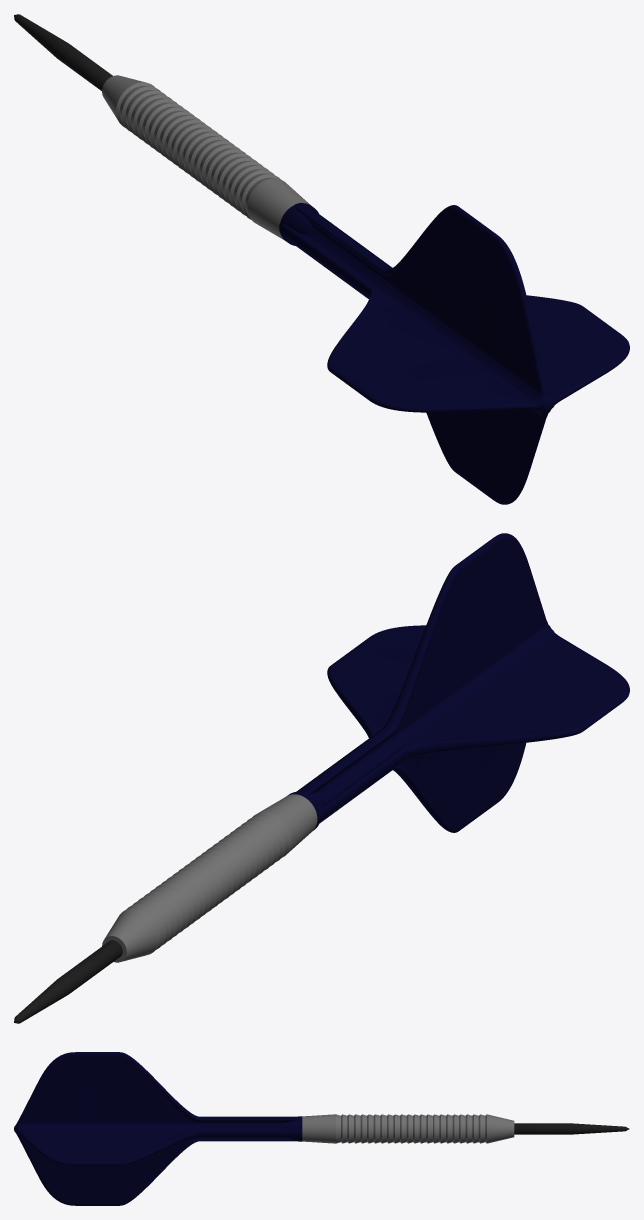
The model's file is dart2.obj.
3 views of the same model, one above another, from view 1: azimuth 30°, elevation 25°; view 2: azimuth 150°, elevation 25°; view 3: azimuth 270°, elevation 25° (orthographic). The views are drawn at different scales.
Visible parts, largest first — view 1: Shaft-Flight_oben+unten, Shaft-Flight_links+rechts, Cylinder, Cylinder_spitze, Übergangselement_Shaft; view 2: Shaft-Flight_oben+unten, Shaft-Flight_links+rechts, Cylinder, Cylinder_spitze; view 3: Shaft-Flight_oben+unten, Shaft-Flight_links+rechts, Cylinder, Cylinder_spitze, Übergangselement_Shaft.
Part boxes in pixels (x1,y1,x2,y2): Shaft-Flight_oben+unten: (294,202,550,504); Shaft-Flight_links+rechts: (279,223,629,412); Cylinder: (102,75,311,240); Cylinder_spitze: (14,14,112,90); Übergangselement_Shaft: (280,203,553,412); Shaft-Flight_oben+unten: (294,533,550,832); Shaft-Flight_links+rechts: (317,625,629,823); Cylinder: (102,794,317,962); Cylinder_spitze: (14,940,122,1023); Shaft-Flight_oben+unten: (16,1052,302,1205); Shaft-Flight_links+rechts: (15,1127,302,1165); Cylinder: (302,1114,514,1143); Cylinder_spitze: (514,1123,629,1134); Übergangselement_Shaft: (14,1116,302,1141).
Bounding box in the file's own units: 0.0403 × 0.0403 × 0.1468.
